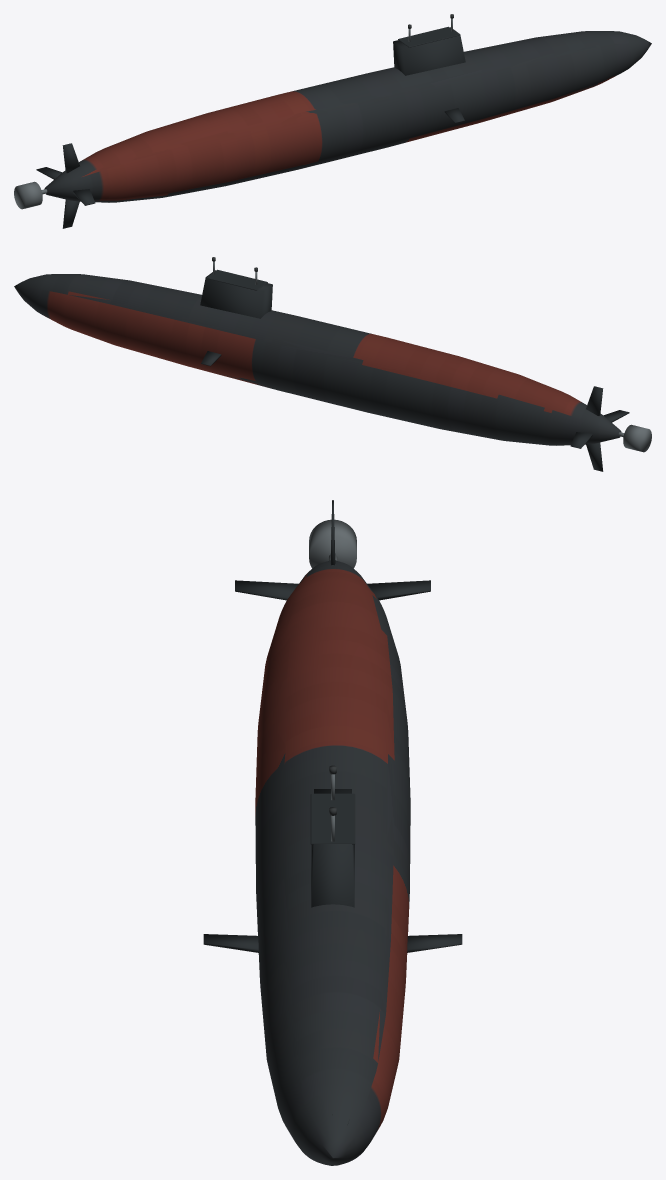
Rendered from US_SSN_Seawolf_LOD2.fbx.
3 renders of one model, top to bottom at view 1: azimuth 30°, elevation 25°; view 2: azimuth 150°, elevation 25°; view 3: azimuth 270°, elevation 25°, orthographic. The views are drawn at different scales.
Visible parts, largest first — view 1: US_SSN_Seawolf_LOD2; view 2: US_SSN_Seawolf_LOD2; view 3: US_SSN_Seawolf_LOD2.
Boxes of the visible parts, box(x1,y1,x2,y2) form: US_SSN_Seawolf_LOD2: box(14, 14, 651, 228); US_SSN_Seawolf_LOD2: box(14, 257, 651, 471); US_SSN_Seawolf_LOD2: box(203, 500, 462, 1165).
Size of the model in its own units: 113 by 19.99 by 20.26.
6 materials, 1 textured.
